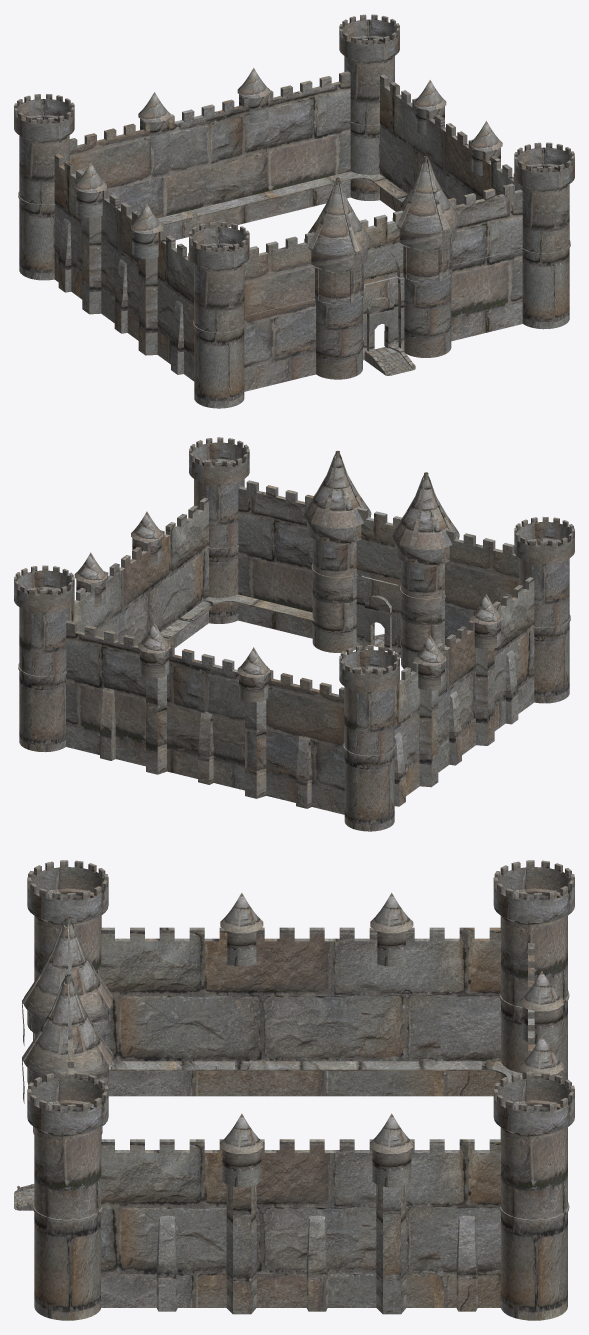
Rendered from castle5.fbx.
The picture shows the model from 3 angles, top to bottom: view 1: azimuth 30°, elevation 25°; view 2: azimuth 150°, elevation 25°; view 3: azimuth 270°, elevation 25°; orthographic projection. The views are drawn at different scales.
Visible parts, largest first — view 1: Castle.001; view 2: Castle.001; view 3: Castle.001.
Boxes of the visible parts, x1=… form: Castle.001: x1=14, y1=14, x2=574, y2=408; Castle.001: x1=14, y1=437, x2=574, y2=831; Castle.001: x1=14, y1=860, x2=574, y2=1320.
Bounding box in the file's own units: 23437 × 11304 × 22593.
Materials: 5 (5 with a texture image).
